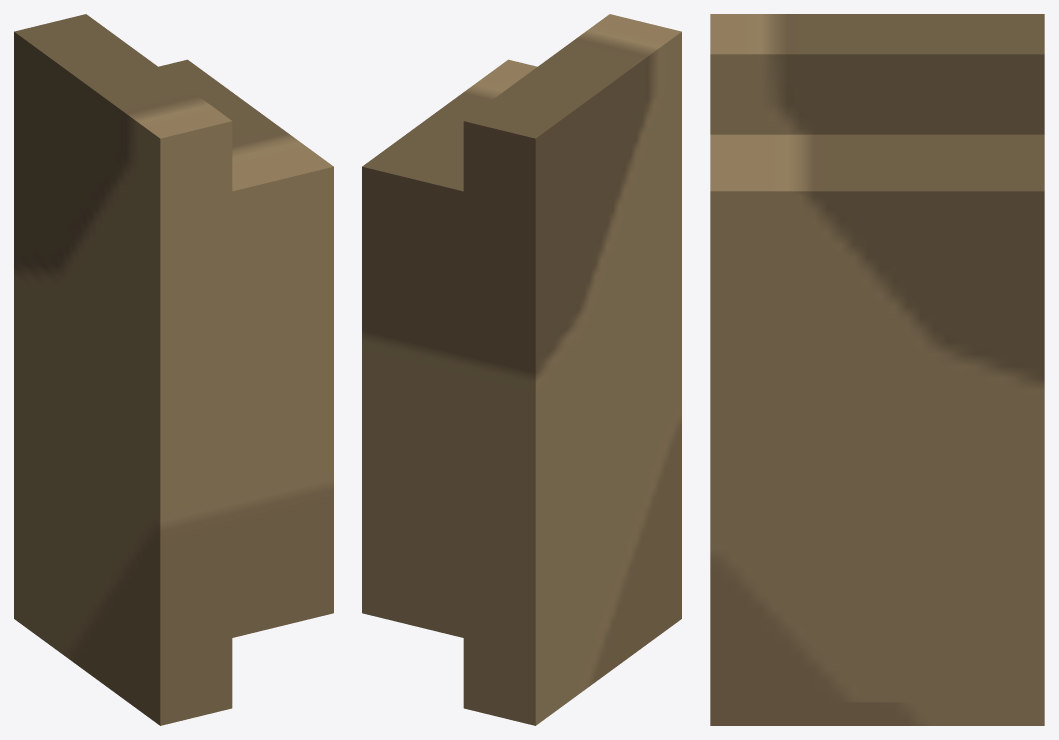
The model's file is SM_Veh_Attach_Tank_Armour_04.fbx.
The picture shows the model from 3 angles, left to right: view 1: azimuth 30°, elevation 25°; view 2: azimuth 150°, elevation 25°; view 3: azimuth 270°, elevation 25°; orthographic projection. The views are drawn at different scales.
Visible parts, largest first — view 1: SM_Veh_Attach_Tank_Armour_04; view 2: SM_Veh_Attach_Tank_Armour_04; view 3: SM_Veh_Attach_Tank_Armour_04.
Part boxes in pixels (bbox=[...]): SM_Veh_Attach_Tank_Armour_04: bbox=[14, 14, 333, 725]; SM_Veh_Attach_Tank_Armour_04: bbox=[362, 14, 681, 725]; SM_Veh_Attach_Tank_Armour_04: bbox=[710, 14, 1044, 725].
Bounding box in the file's own units: 11.1 × 35.88 × 16.2.
